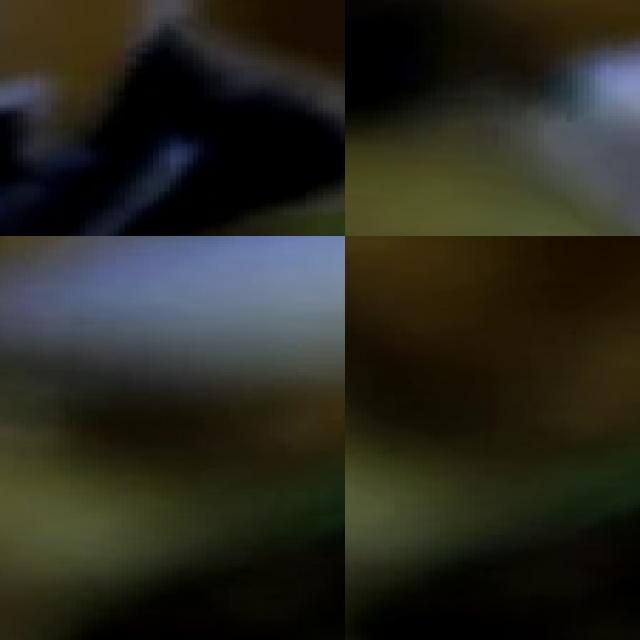fish: (0, 0, 345, 236), (476, 5, 640, 236)
